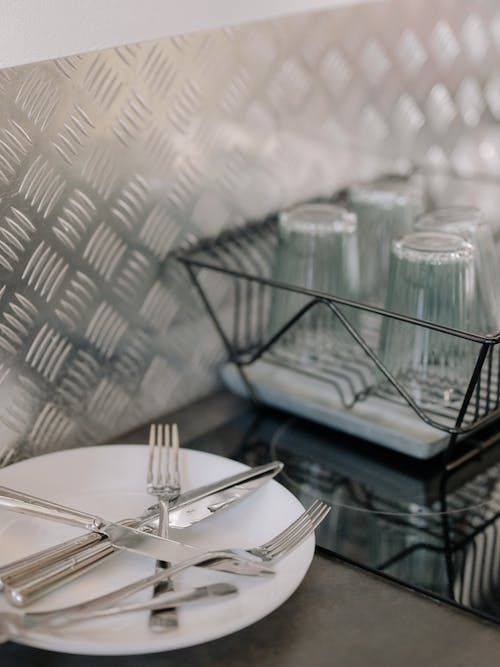knife: (0, 456, 286, 609), (0, 484, 278, 580)
